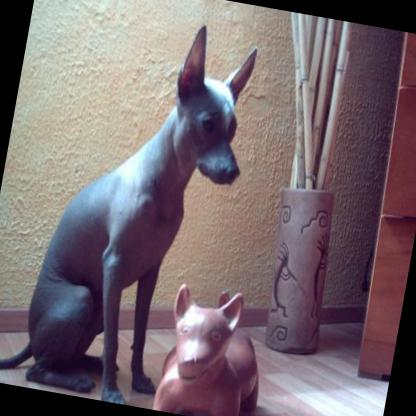Mexican_hairless: (0, 0, 261, 413), (150, 281, 276, 416)
